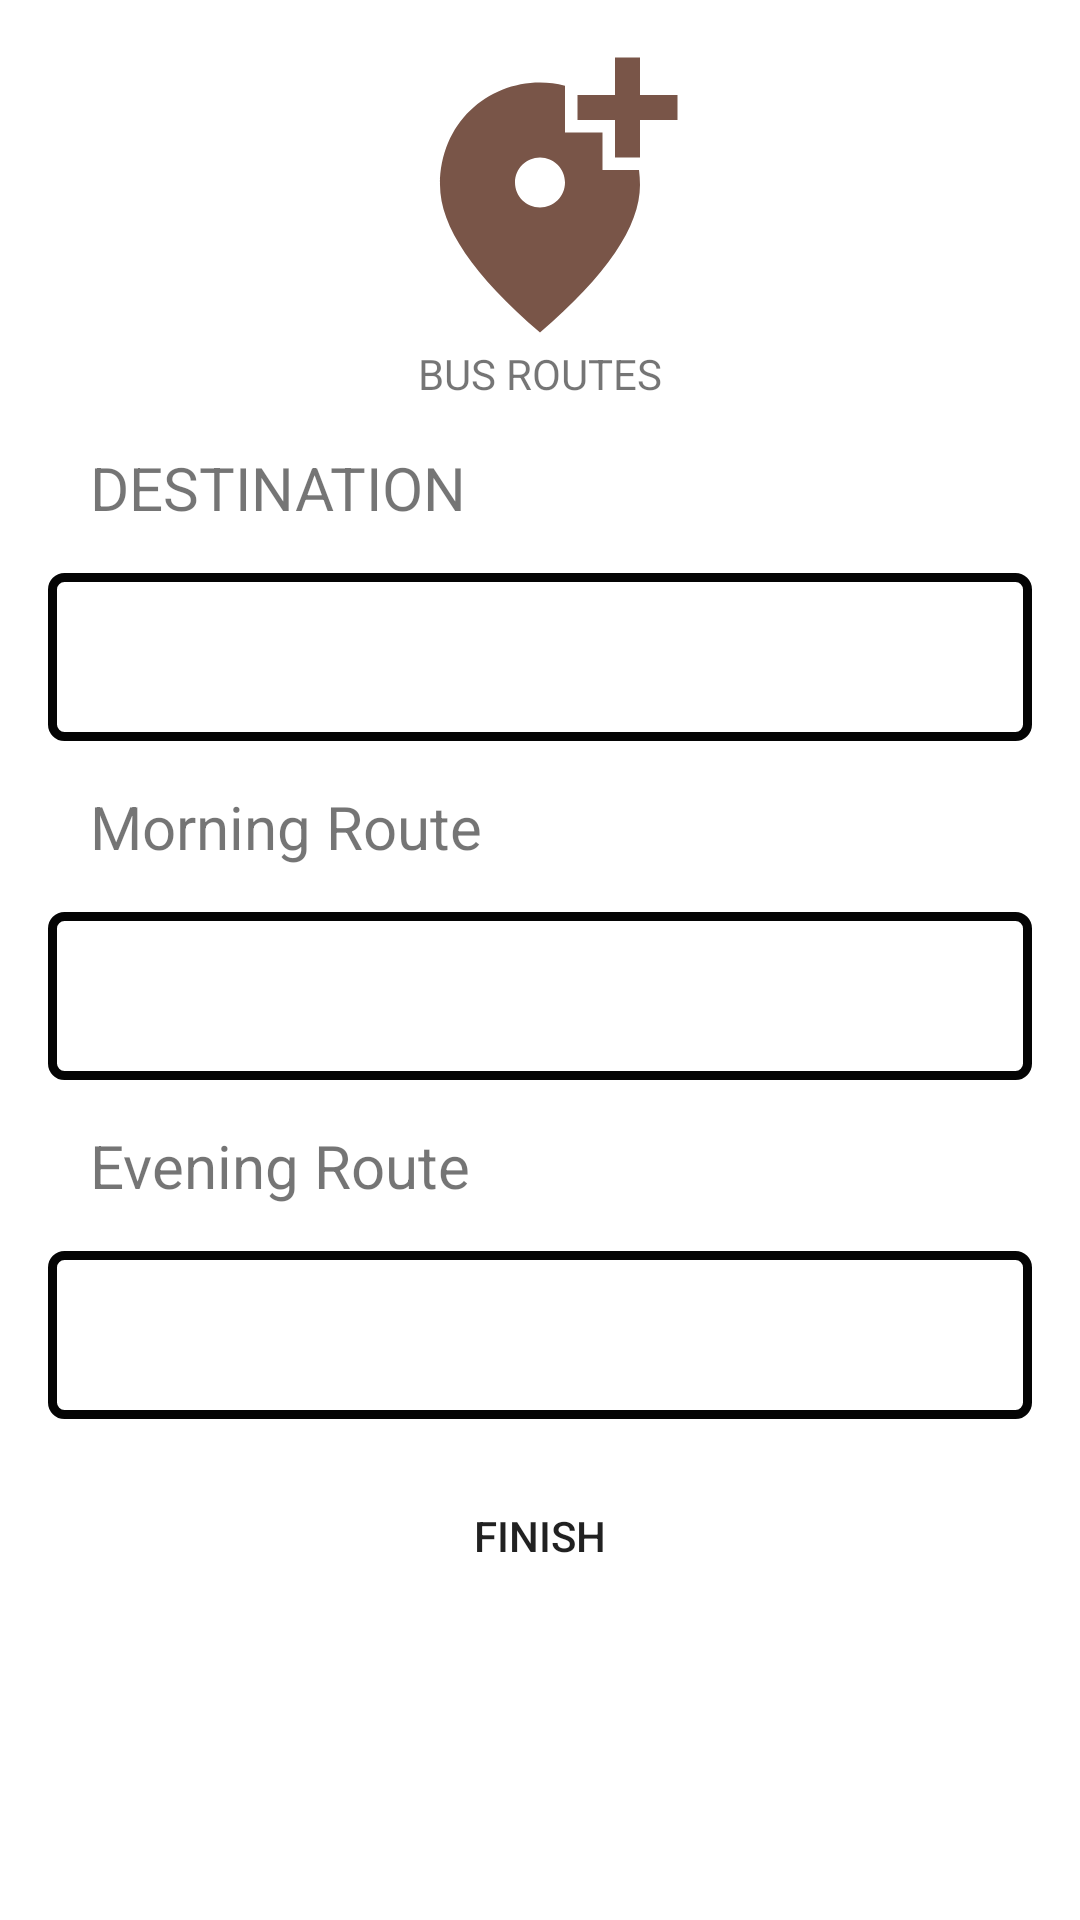

Screen size 1080w x 1920h. Icon name, then its box in pixels as (x1, y1, x2, y2):
add location: (440, 57, 678, 333)
